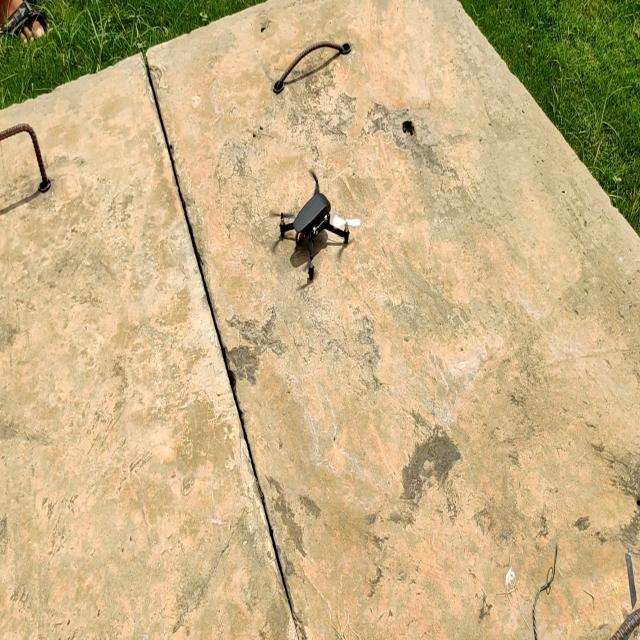drone: (263, 165, 366, 289)
